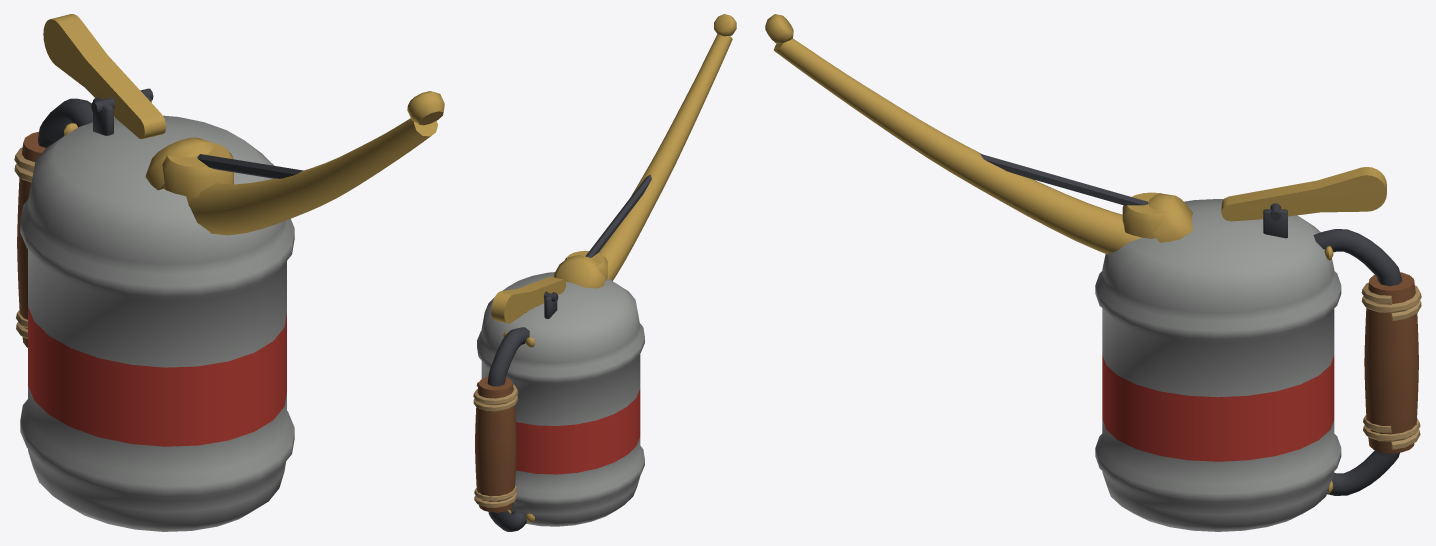
Rendered from tool_oilcan.fbx.
3 views of the same model, side by side, from view 1: azimuth 30°, elevation 25°; view 2: azimuth 150°, elevation 25°; view 3: azimuth 270°, elevation 25° (orthographic). The views are drawn at different scales.
Visible parts, largest first — view 1: Tool_OilCan_Body, Tool_OilCan_Spout, Tool_OilCan_Lever, Tool_OilCan_Fittings, Tool_OilCan_Grip, Tool_OilCan_Handle; view 2: Tool_OilCan_Body, Tool_OilCan_Spout, Tool_OilCan_Grip, Tool_OilCan_Lever, Tool_OilCan_Handle, Tool_OilCan_Fittings; view 3: Tool_OilCan_Body, Tool_OilCan_Spout, Tool_OilCan_Grip, Tool_OilCan_Lever, Tool_OilCan_Handle, Tool_OilCan_Fittings.
Boxes of the visible parts, x1,y1,x2,y2 form: Tool_OilCan_Body: (20, 115, 294, 531); Tool_OilCan_Spout: (145, 91, 444, 235); Tool_OilCan_Lever: (43, 14, 165, 138); Tool_OilCan_Fittings: (64, 88, 233, 197); Tool_OilCan_Grip: (14, 131, 45, 347); Tool_OilCan_Handle: (38, 98, 92, 147); Tool_OilCan_Body: (477, 272, 644, 526); Tool_OilCan_Spout: (553, 14, 736, 288); Tool_OilCan_Grip: (473, 377, 518, 512); Tool_OilCan_Lever: (491, 276, 566, 323); Tool_OilCan_Handle: (487, 327, 529, 531); Tool_OilCan_Fittings: (503, 251, 607, 522); Tool_OilCan_Body: (1095, 199, 1341, 531); Tool_OilCan_Spout: (765, 14, 1192, 254); Tool_OilCan_Grip: (1361, 272, 1421, 453); Tool_OilCan_Lever: (1221, 167, 1386, 221); Tool_OilCan_Handle: (1313, 229, 1402, 495); Tool_OilCan_Fittings: (1122, 192, 1333, 493).
Size of the model in its own units: 13.99 by 34.2 by 42.43.
